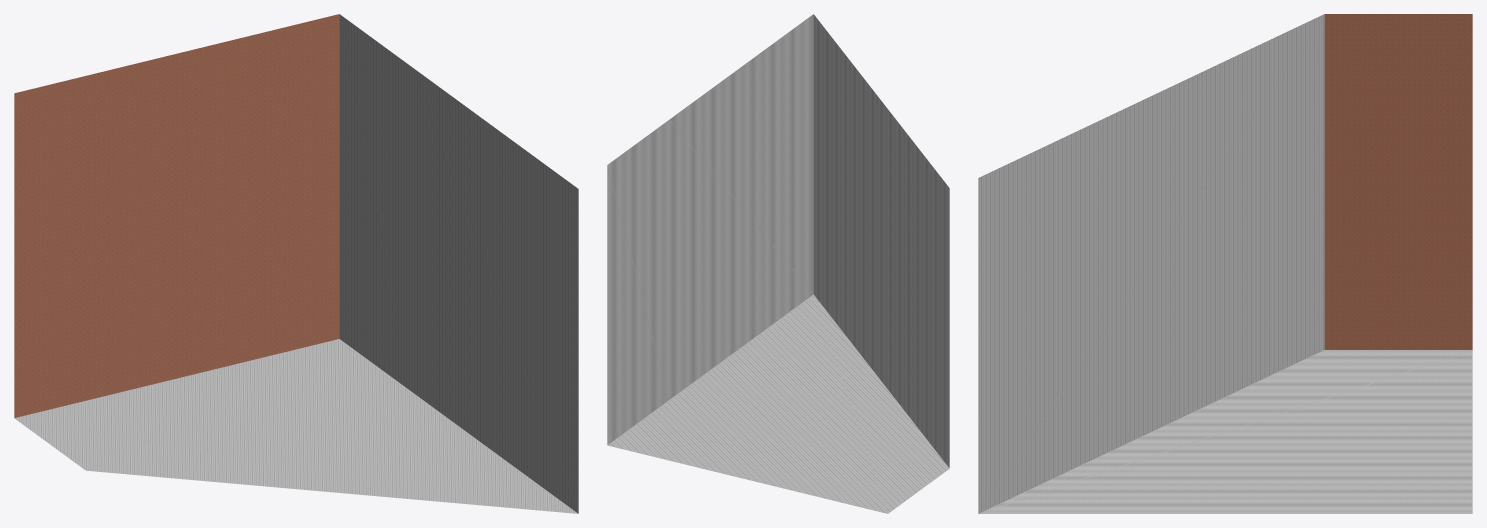
File: NewRoom.gltf
3 views of the same model, side by side, from view 1: azimuth 30°, elevation 25°; view 2: azimuth 150°, elevation 25°; view 3: azimuth 270°, elevation 25° (orthographic). The views are drawn at different scales.
Visible parts, largest first — view 1: ConcreteBlockCoarse, BrickBare; view 2: ConcreteBlockCoarse; view 3: ConcreteBlockCoarse, BrickBare.
Boxes of the visible parts, x1=… form: ConcreteBlockCoarse: x1=14, y1=14, x2=578, y2=513; BrickBare: x1=14, y1=14, x2=339, y2=417; ConcreteBlockCoarse: x1=607, y1=14, x2=949, y2=513; ConcreteBlockCoarse: x1=978, y1=14, x2=1472, y2=513; BrickBare: x1=1324, y1=14, x2=1472, y2=349.
Size of the model in its own units: 32.1 by 30.64 by 40.89.
Materials: 2 (2 with a texture image).
